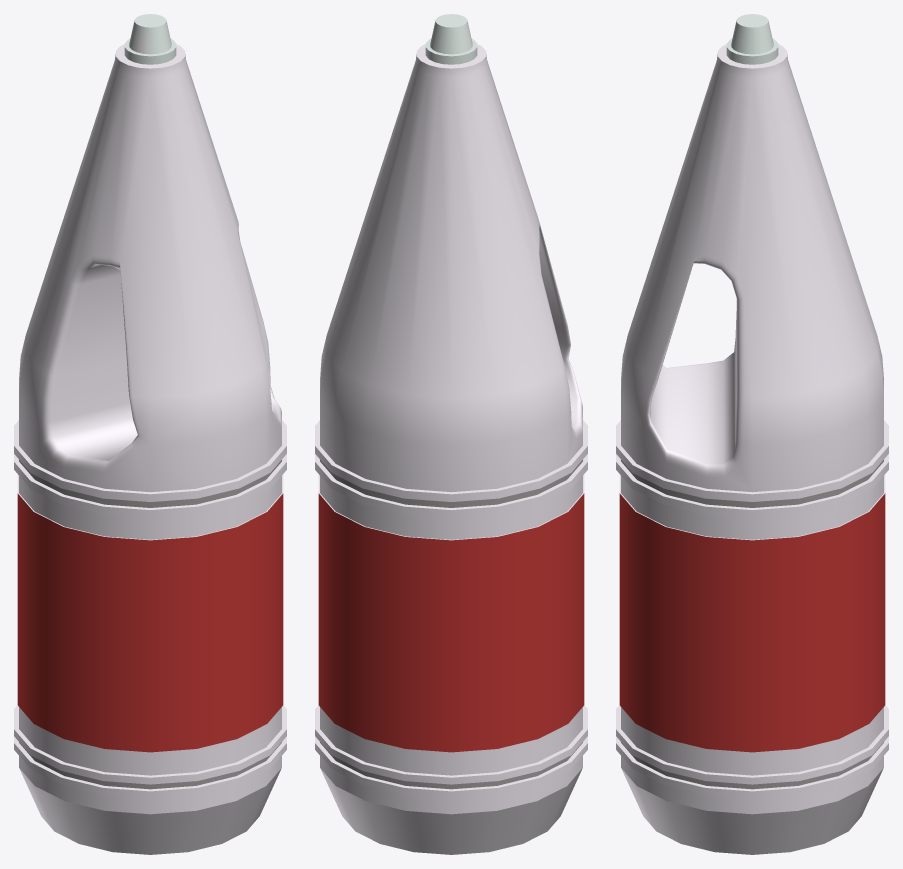
File: P_javel.fbx
3 views of the same model, side by side, from view 1: azimuth 30°, elevation 25°; view 2: azimuth 150°, elevation 25°; view 3: azimuth 270°, elevation 25° (orthographic).
Parts seen in each view (by area): view 1: Cylinder001; view 2: Cylinder001; view 3: Cylinder001.
Boxes of the visible parts, <box> form: Cylinder001: <box>14,14,286,854</box>; Cylinder001: <box>315,14,587,854</box>; Cylinder001: <box>616,14,888,854</box>.
Size of the model in its own units: 12.46 by 39.08 by 12.27.
